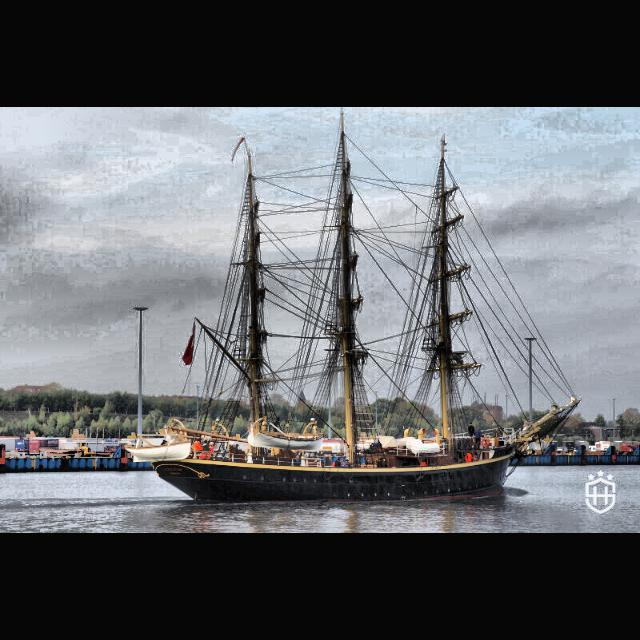sailing_vessel: (128, 114, 580, 502)
